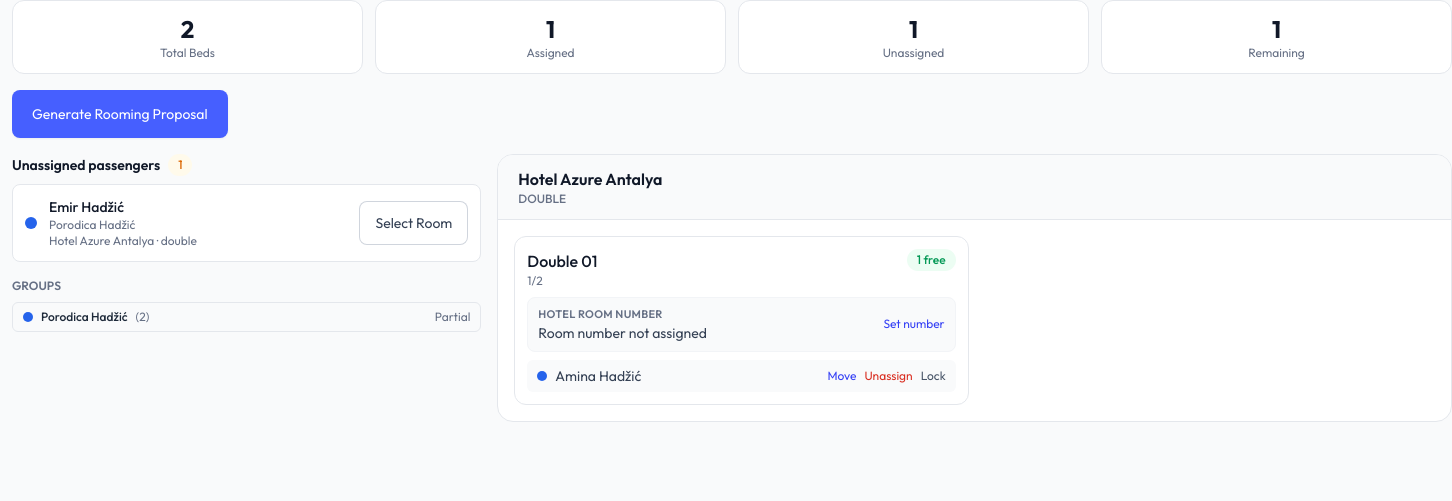
Test: RoomingWorkspace room slots › shows lock API failures and does not falsely mutate local state
Expected: the text "Amina Hadžić" is shown, [555, 366, 641, 384]
Click the button "Lock" at (933,376), box [921, 368, 946, 384]
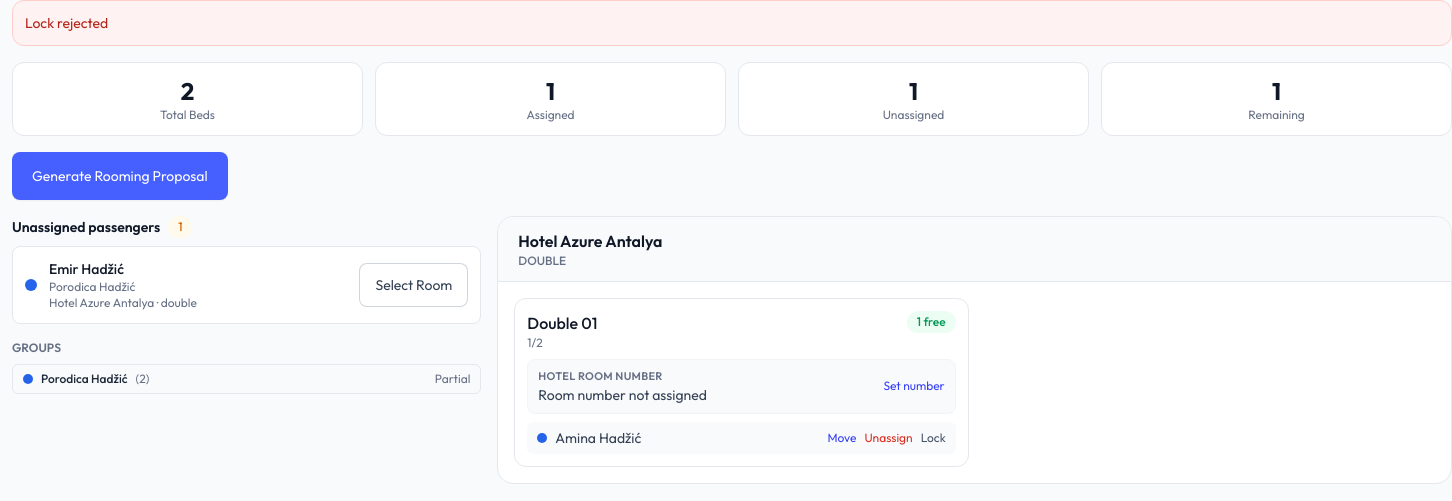
Expected: the button "Lock" is shown, [921, 430, 946, 446]
Now the text "Lock rejected" is shown, box [12, 0, 1451, 46]
